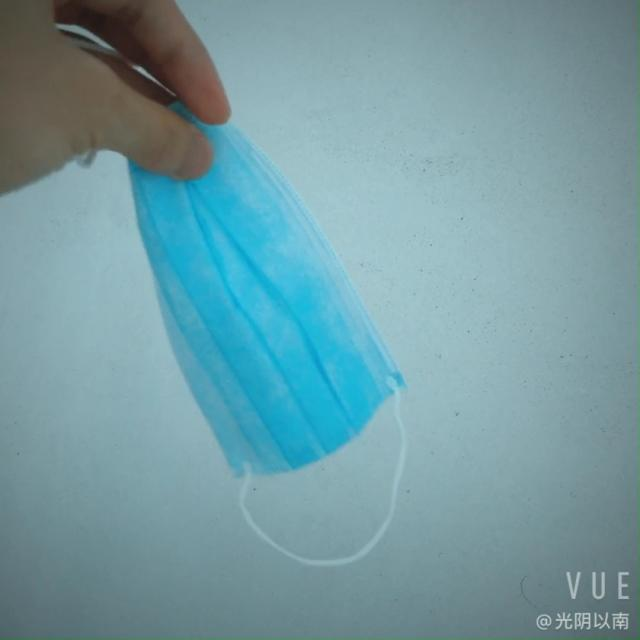face mask: (143, 73, 443, 510)
